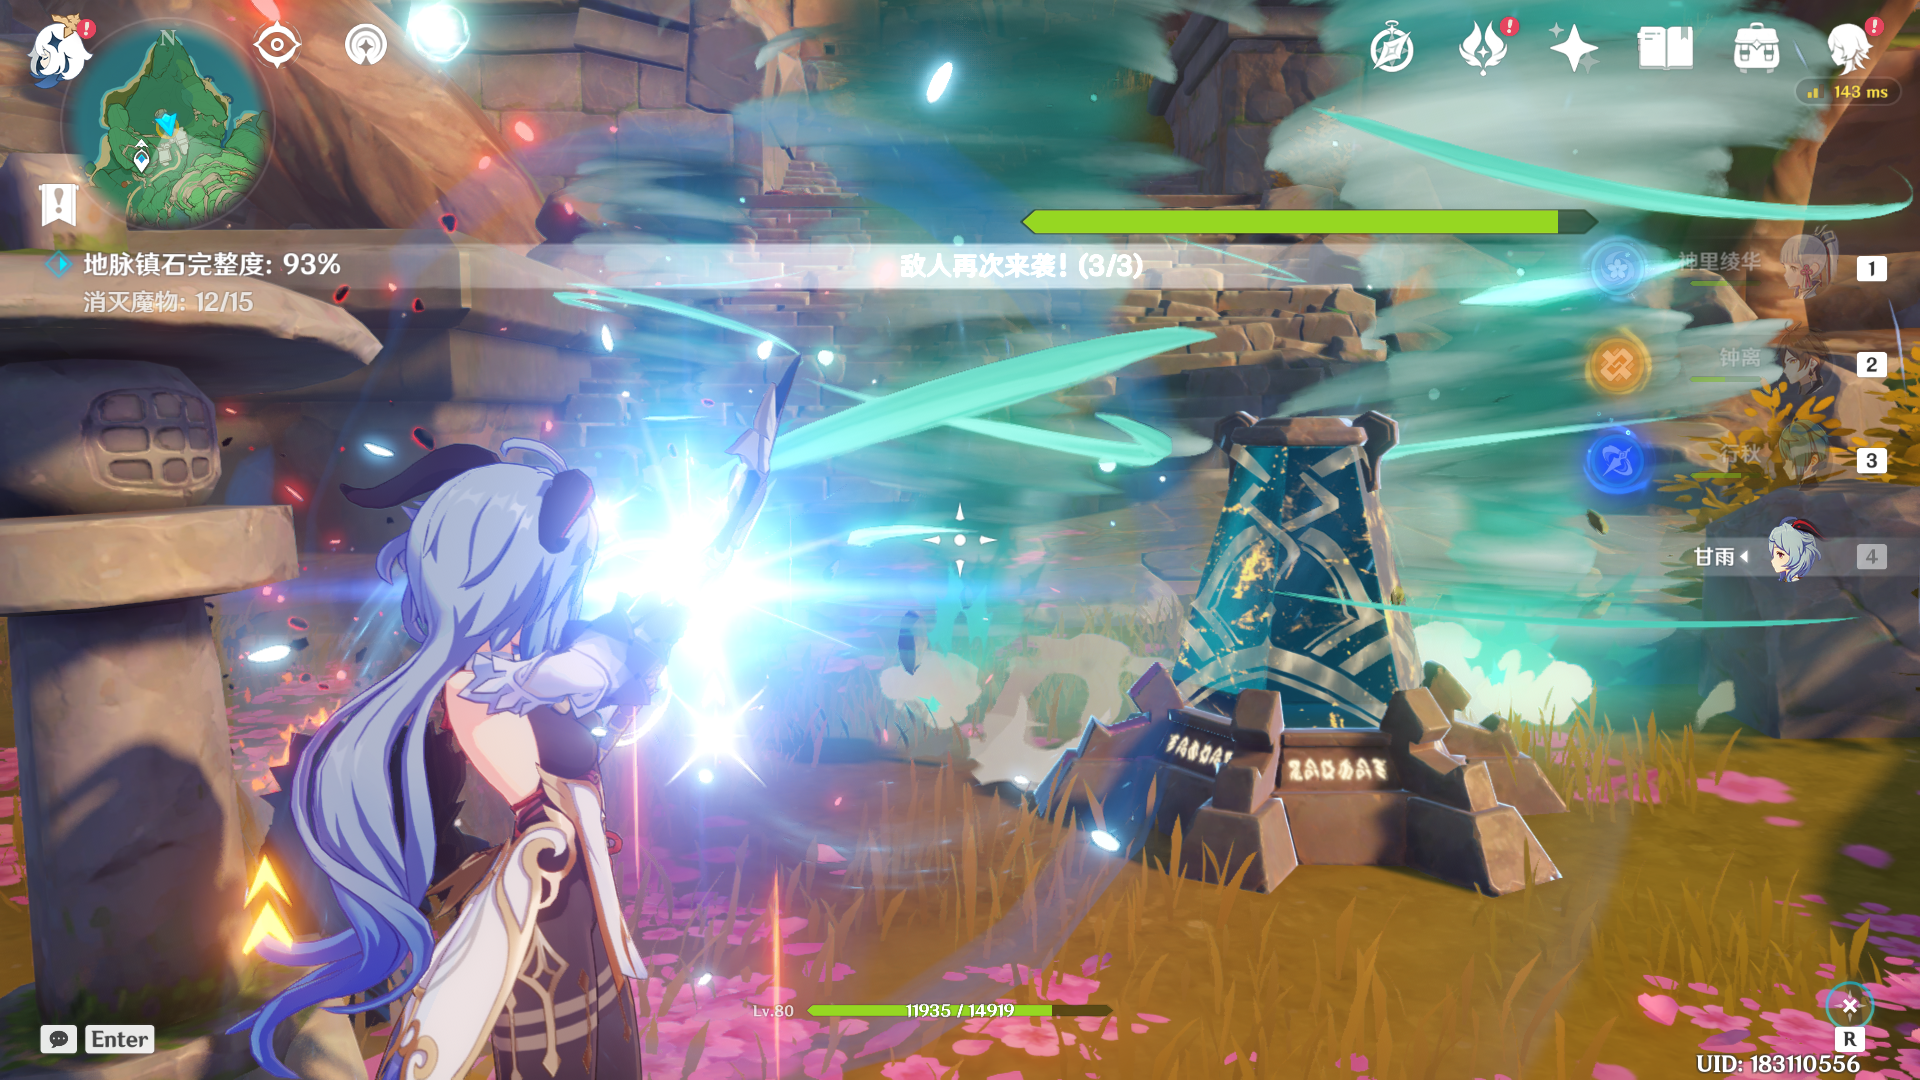character: (200, 353, 771, 1080)
